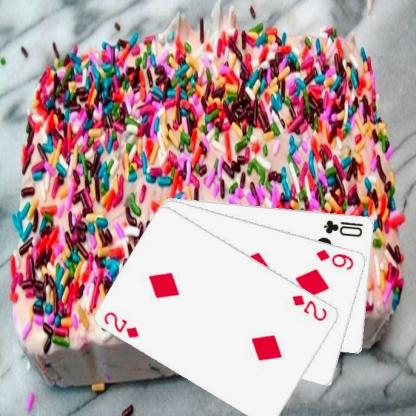10C: (321, 216, 365, 237)
2D: (101, 308, 141, 340), (289, 292, 329, 323)
6D: (314, 246, 356, 271)
